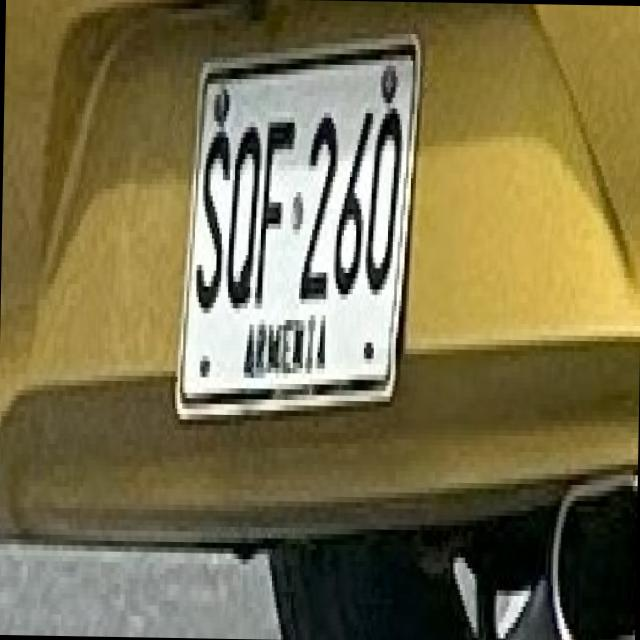number plate: (172, 28, 415, 409)
